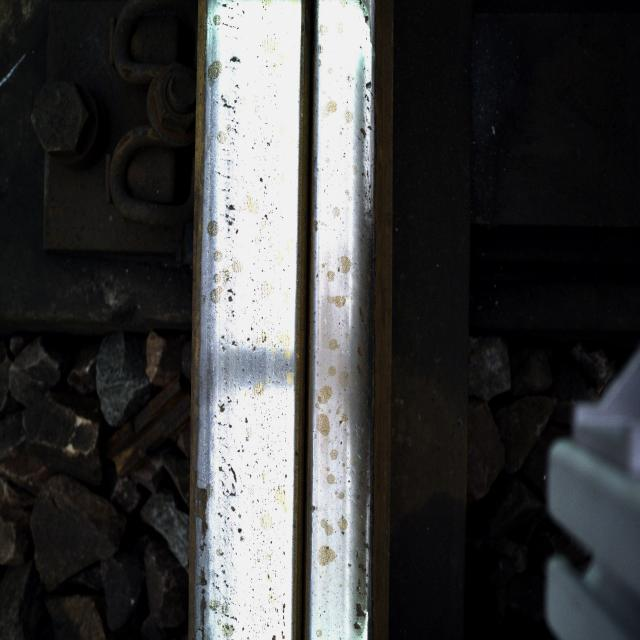scar: (202, 6, 256, 632)
